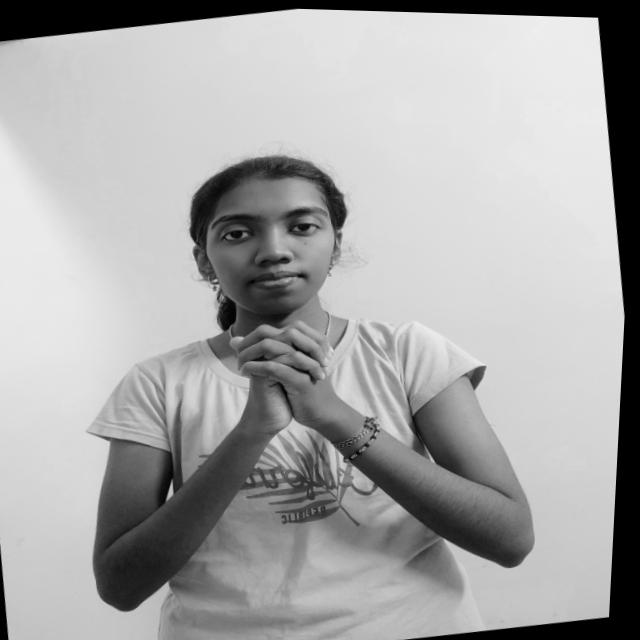Sorry: (210, 301, 365, 454)
